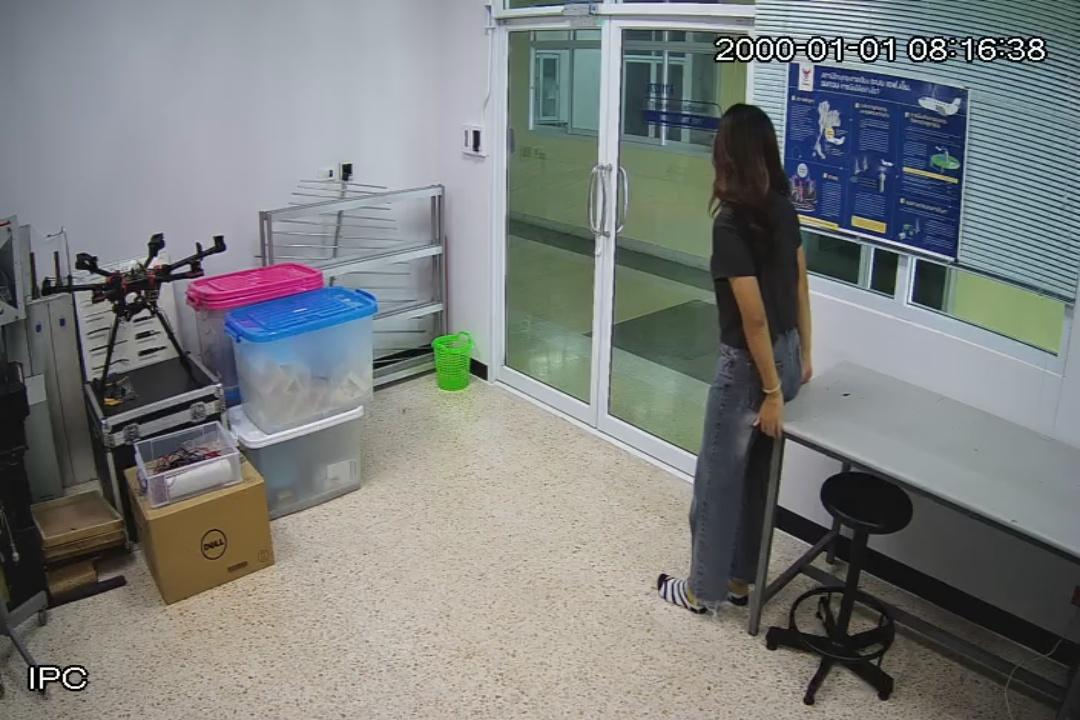normal: (656, 104, 815, 616)
